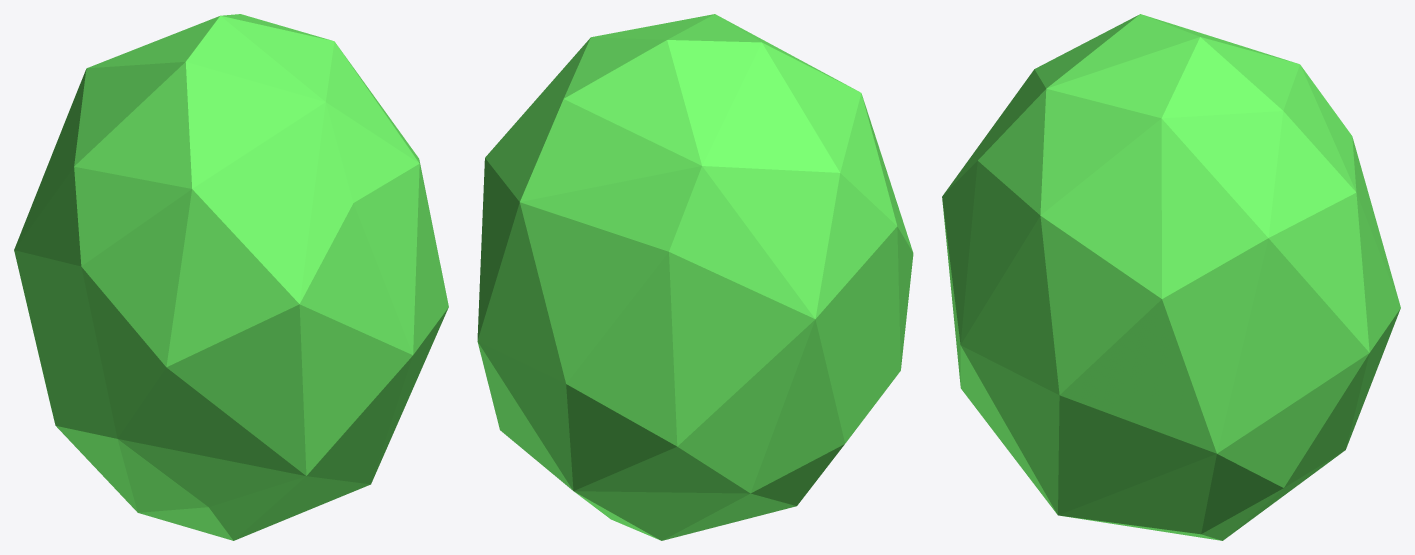
The model's file is Bush_3.fbx.
3 views of the same model, side by side, from view 1: azimuth 30°, elevation 25°; view 2: azimuth 150°, elevation 25°; view 3: azimuth 270°, elevation 25° (orthographic).
Visible parts, largest first — view 1: Sphere.012; view 2: Sphere.012; view 3: Sphere.012.
Boxes of the visible parts, box(x1,y1,x2,y2) form: Sphere.012: box(14, 14, 448, 540); Sphere.012: box(477, 14, 913, 540); Sphere.012: box(942, 14, 1400, 540).
Size of the model in its own units: 208 by 265 by 226.
